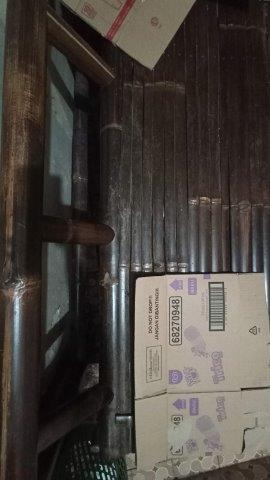kardus: (135, 274, 270, 470)
